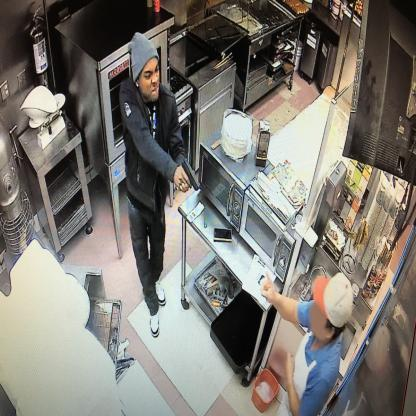pistols: (169, 159, 202, 195)
